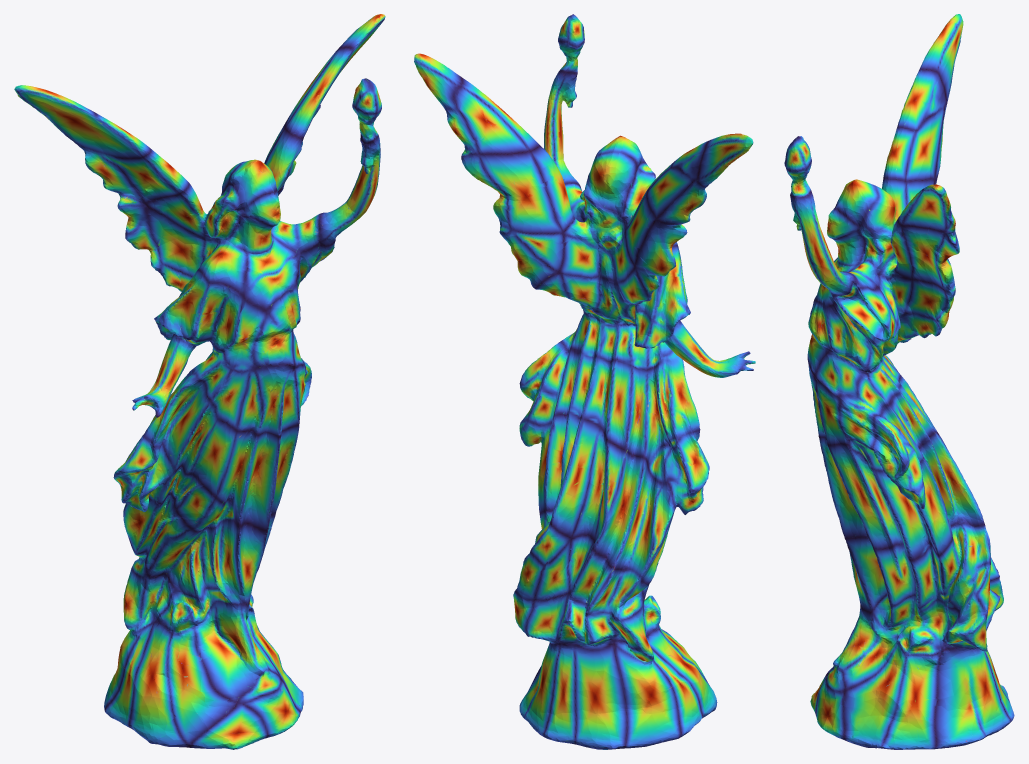
Rendered from gen3.glb.
3 renders of one model, left to right at view 1: azimuth 30°, elevation 25°; view 2: azimuth 150°, elevation 25°; view 3: azimuth 270°, elevation 25°, orthographic. The views are drawn at different scales.
Parts seen in each view (by area): view 1: Node; view 2: Node; view 3: Node.
Part boxes in pixels (x1=…): Node: x1=14, y1=14, x2=385, y2=749; Node: x1=414, y1=14, x2=755, y2=749; Node: x1=784, y1=14, x2=1014, y2=749.
Size of the model in its own units: 919 by 1583 by 526.
Materials: 1 (1 with a texture image).
